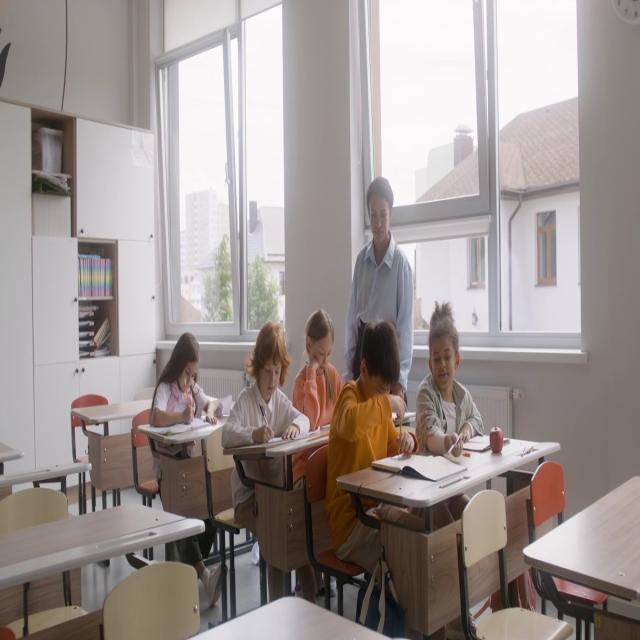reading: (289, 301, 354, 440)
turning: (415, 302, 483, 467)
writing: (328, 322, 421, 628), (222, 323, 310, 607), (148, 333, 231, 603)
